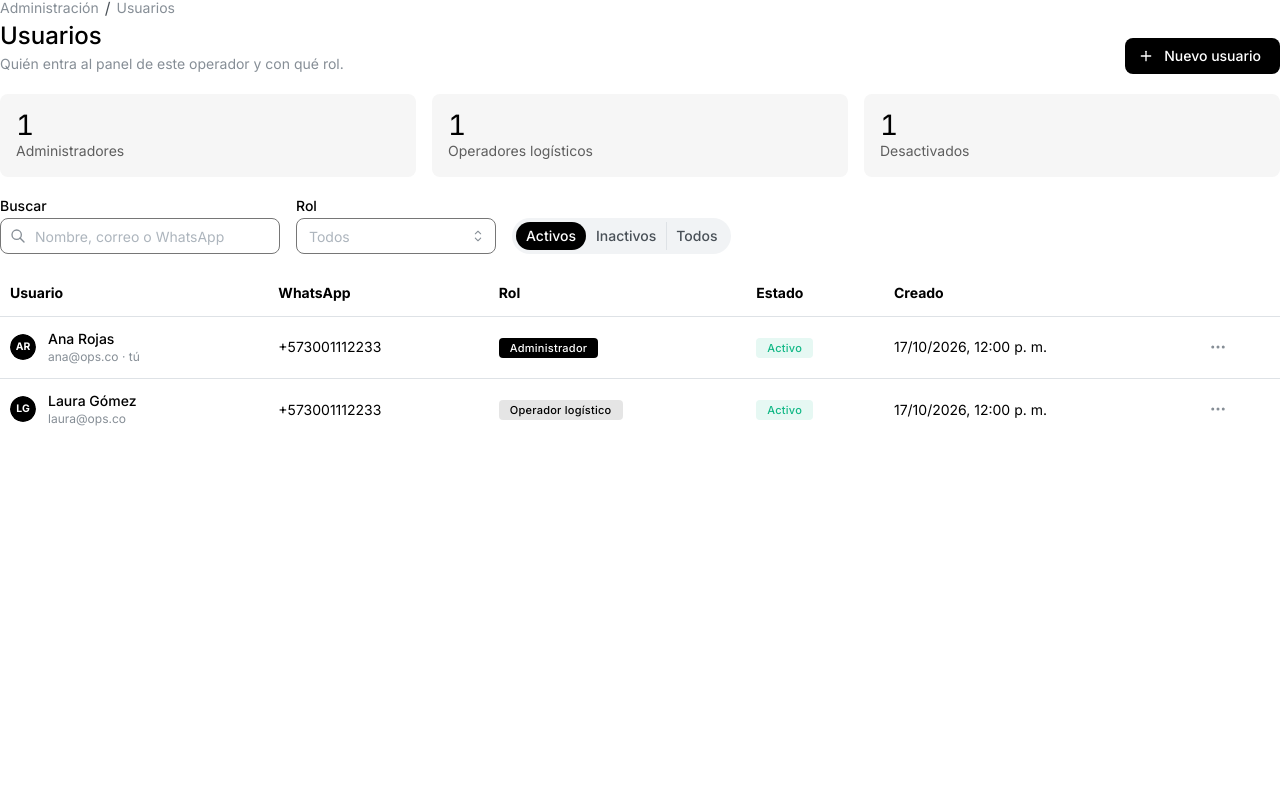
Test: Usuarios del panel (RF-02, RF-24, RF-25) › crea un usuario desde el panel lateral con el rol elegido
Click the button "Nuevo usuario". click: click(1203, 56)
box: 1125,38 -> 1279,74
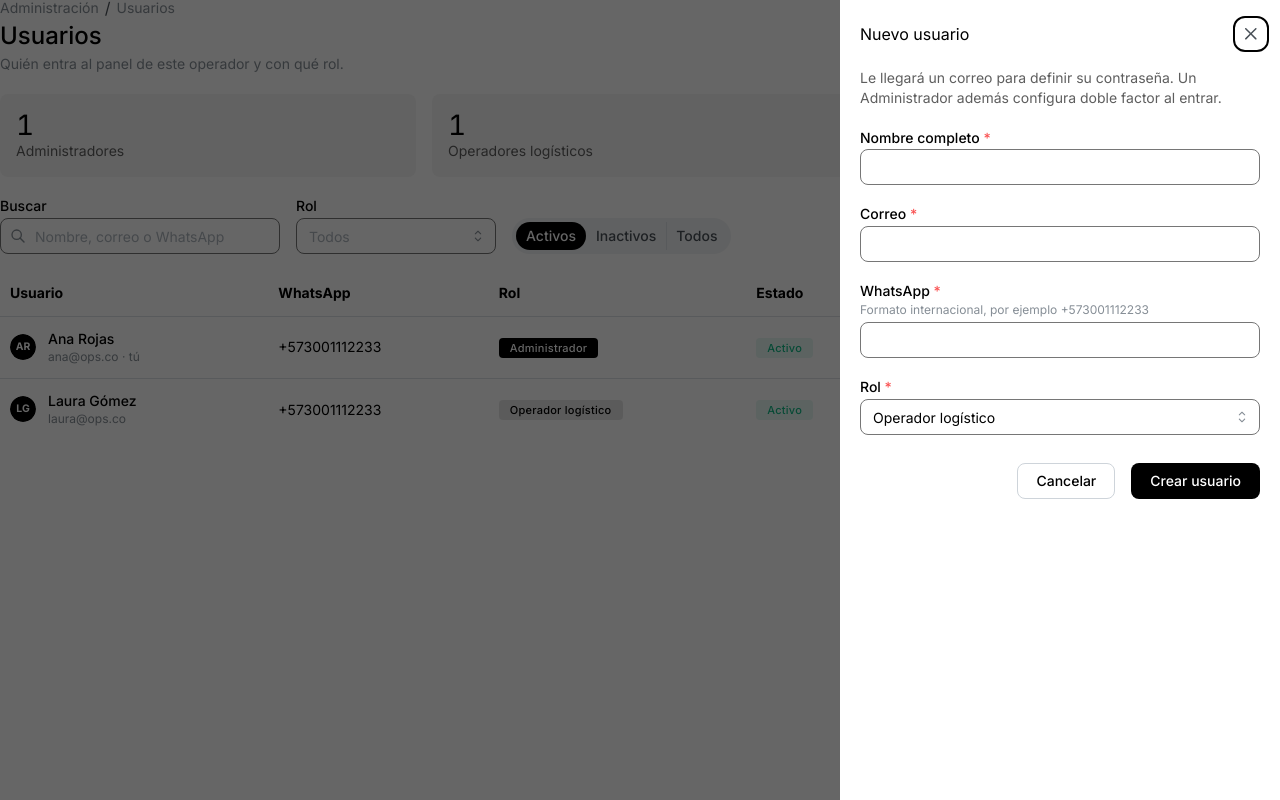
Type "Pedro Pérez" into the field labelled "Nombre completo *". click: (1060, 167)
box: 860,149 -> 1260,185
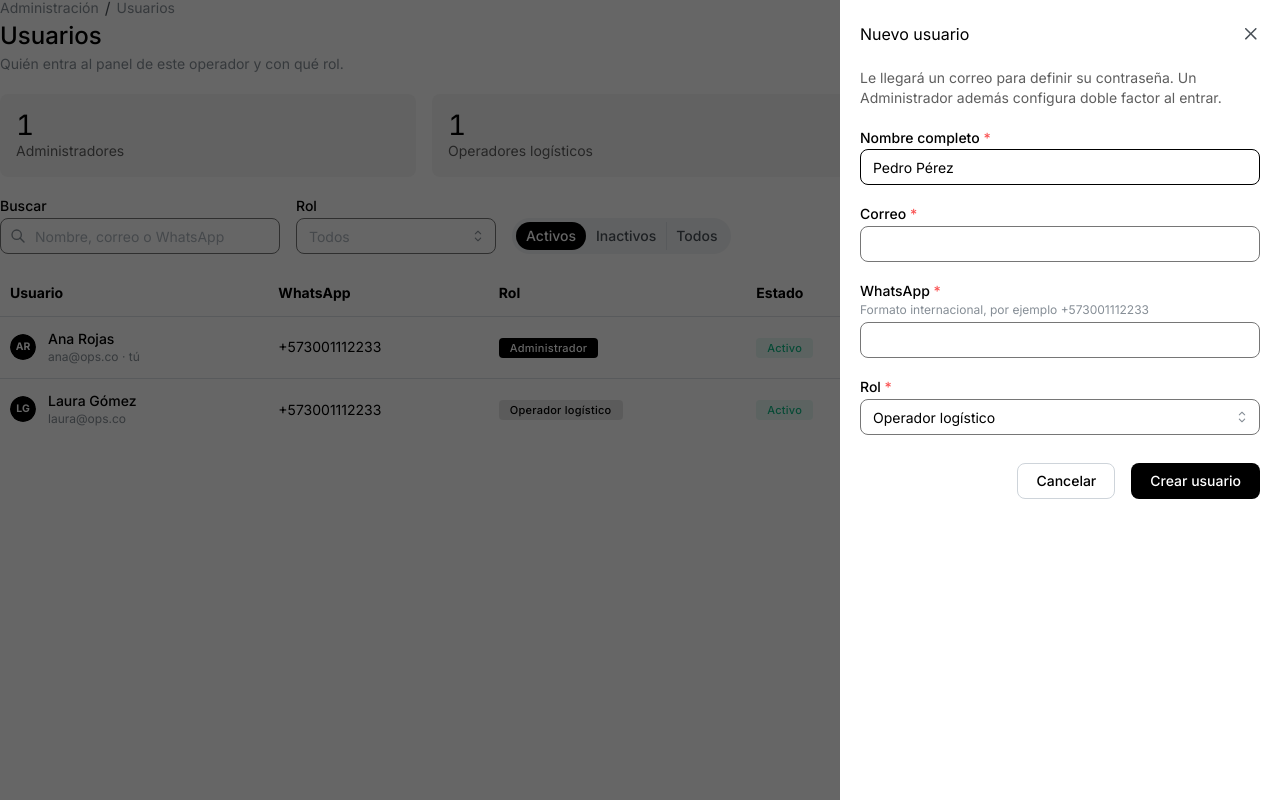
Type "nuevo@ops.co" into the field labelled "Correo *". click: (1060, 244)
box: 860,226 -> 1260,262
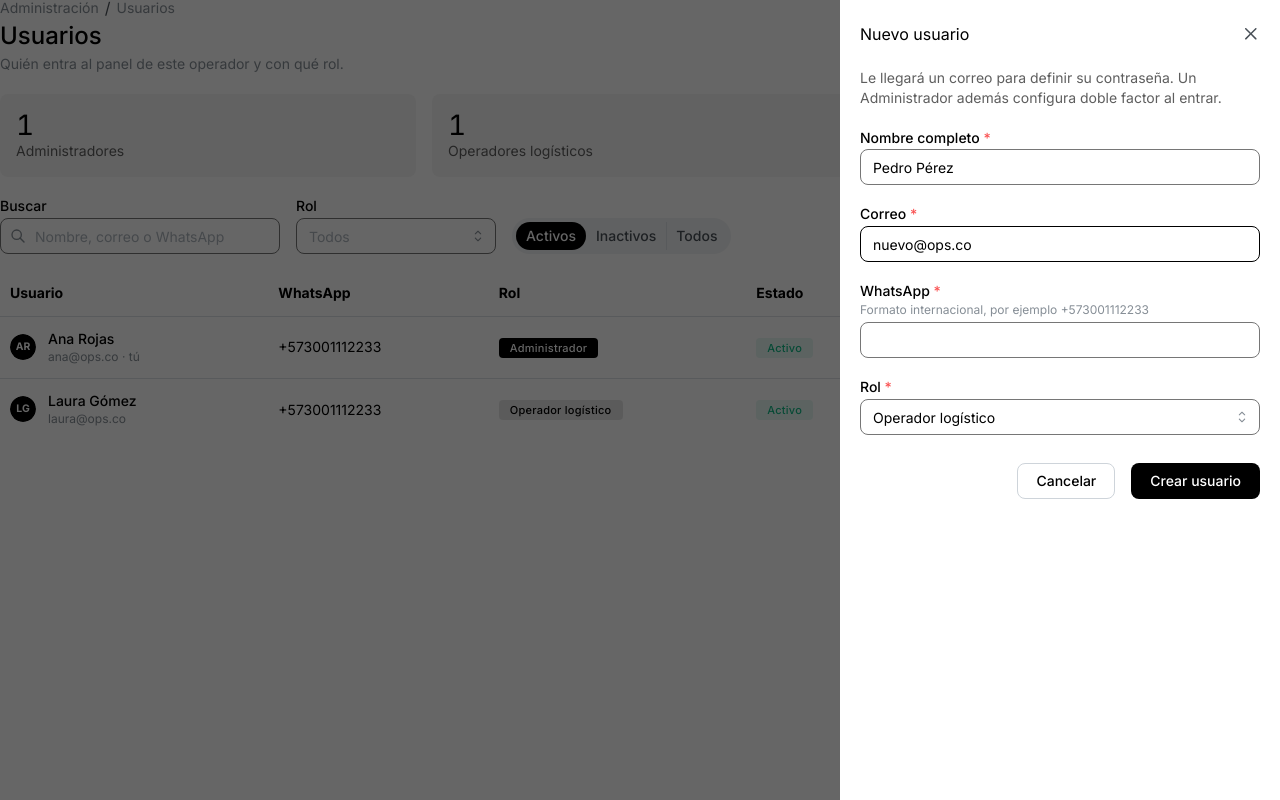
Type "+573009998877" into the field labelled "WhatsApp *". click: (1060, 340)
box: 860,322 -> 1260,358
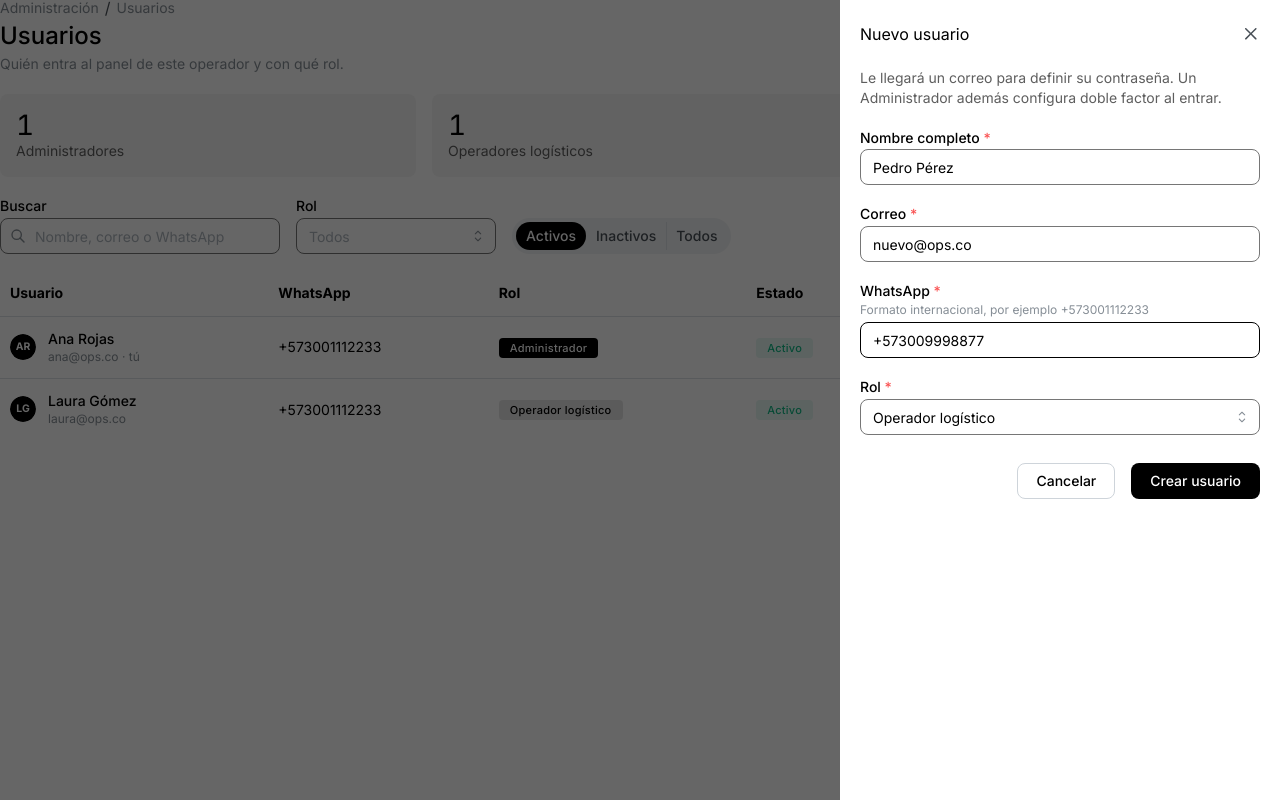
Click the button "Crear usuario". click: click(1196, 481)
box: 1131,463 -> 1260,499
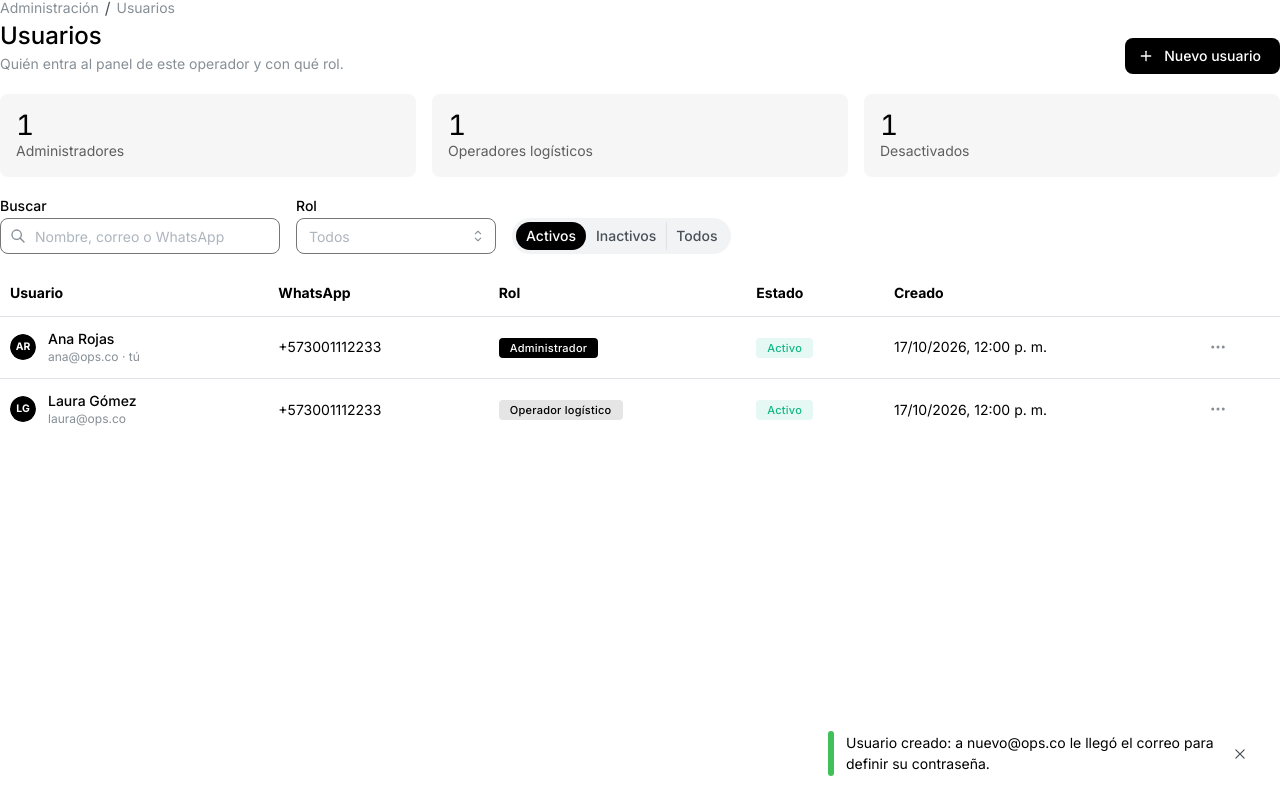
Result: the text "a nuevo@ops.co le llegó el correo para definir su contraseña" is shown at 846,734 -> 1214,772
